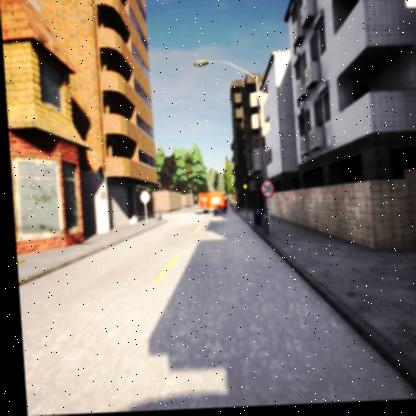vehicle: (195, 194, 223, 216)
